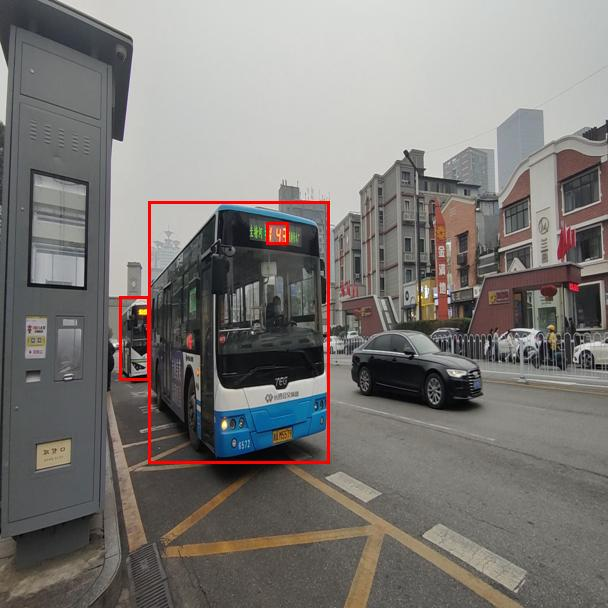bus: (148, 201, 329, 463), (119, 296, 149, 380)
screen: (266, 222, 288, 244)
